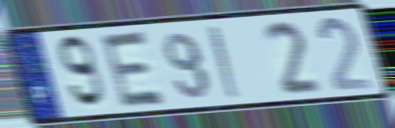2: (315, 14, 378, 93), (261, 18, 324, 97)
9: (55, 34, 107, 113), (161, 30, 211, 100)
E: (98, 28, 170, 110)
I: (205, 23, 244, 101)
